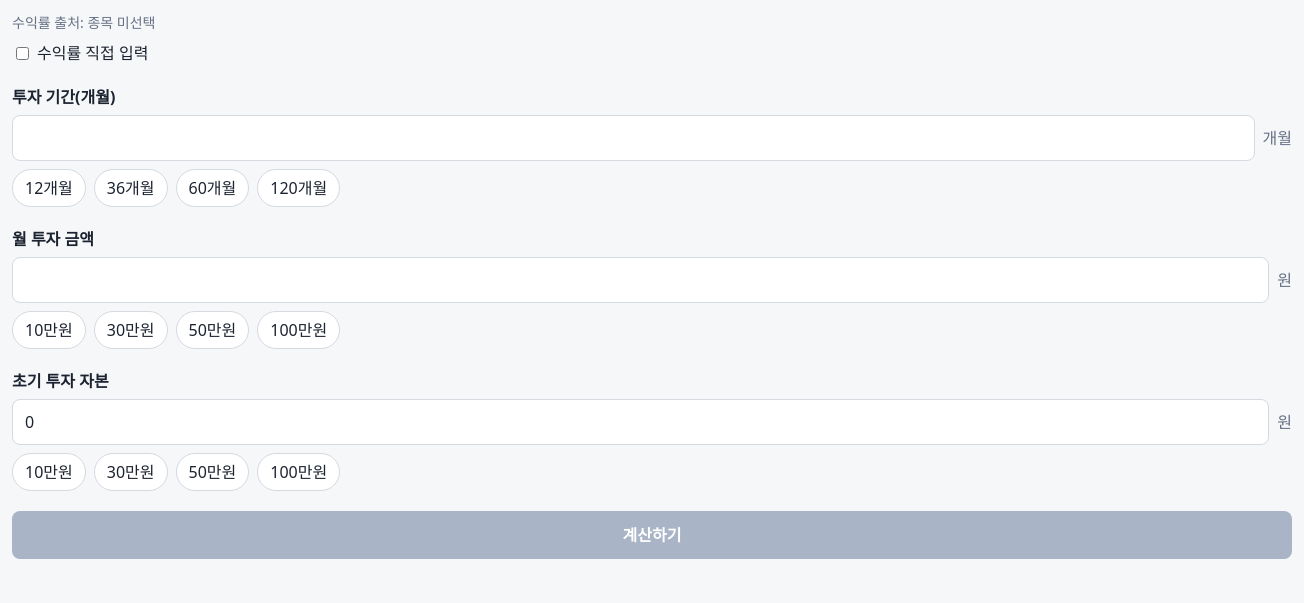
Test: InputForm › 금액 상한 초과 오류
Type "100000000001" into the field labelled "월 투자 금액" at (641, 280), box left=12, top=257, right=1269, bottom=303
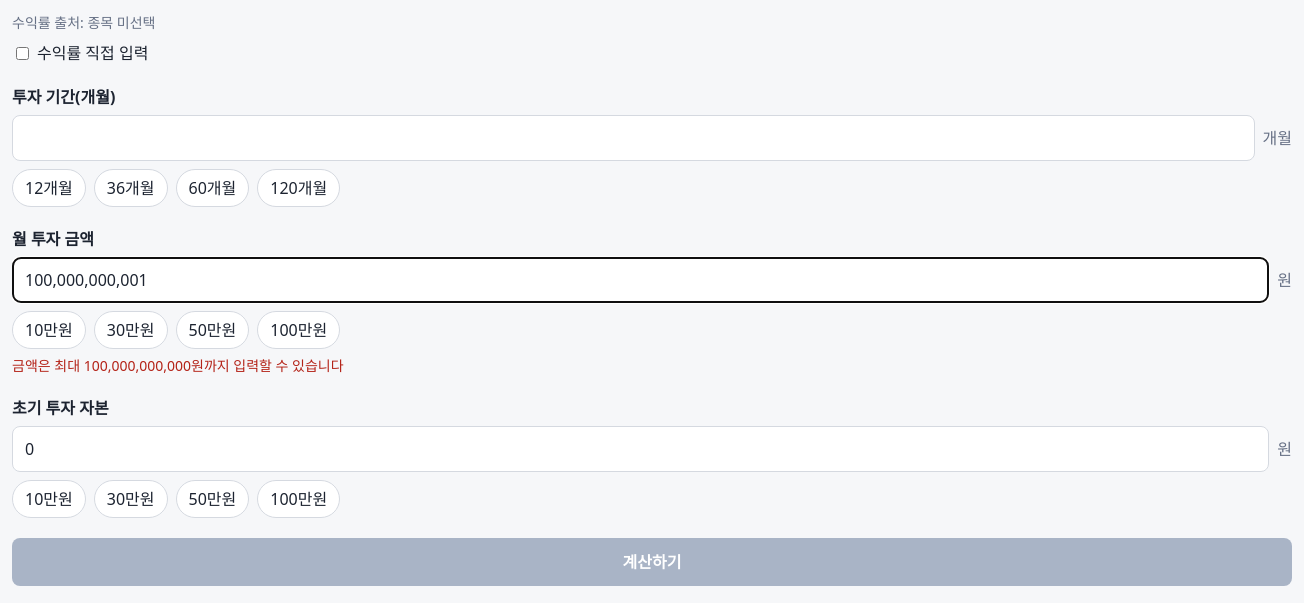
Expected: the text "금액은 최대 100,000,000,000원까지 입력할 수 있습니다" is shown, left=12, top=356, right=344, bottom=375
